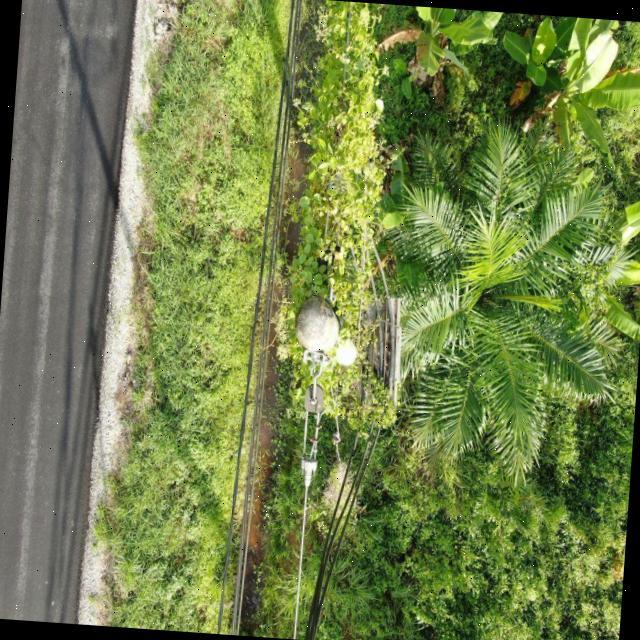critical vegetation: (264, 16, 396, 456)
